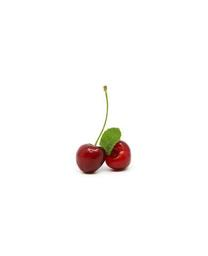cherry: (102, 141, 131, 174), (77, 143, 105, 175)
